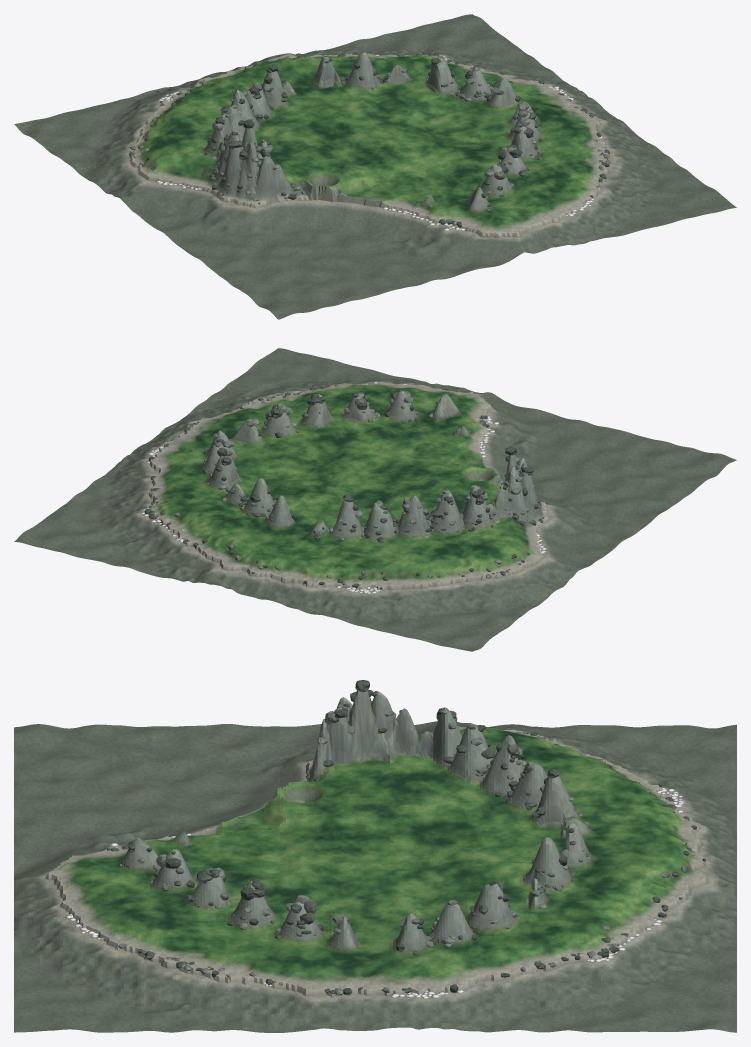
File: Terrain_P3.fbx
3 renders of one model, top to bottom at view 1: azimuth 30°, elevation 25°; view 2: azimuth 150°, elevation 25°; view 3: azimuth 270°, elevation 25°, orthographic. The views are drawn at different scales.
Visible parts, largest first — view 1: Ground, Surf; view 2: Ground, Surf; view 3: Ground, Surf.
Part boxes in pixels (<box>): Ground: <box>14,14,736,319</box>; Surf: <box>156,53,602,230</box>; Ground: <box>14,348,736,651</box>; Surf: <box>141,381,546,593</box>; Ground: <box>14,690,736,1032</box>; Surf: <box>65,733,684,998</box>.
Size of what is drawn, in the model's own units: 64000 by 11076 by 64000.
